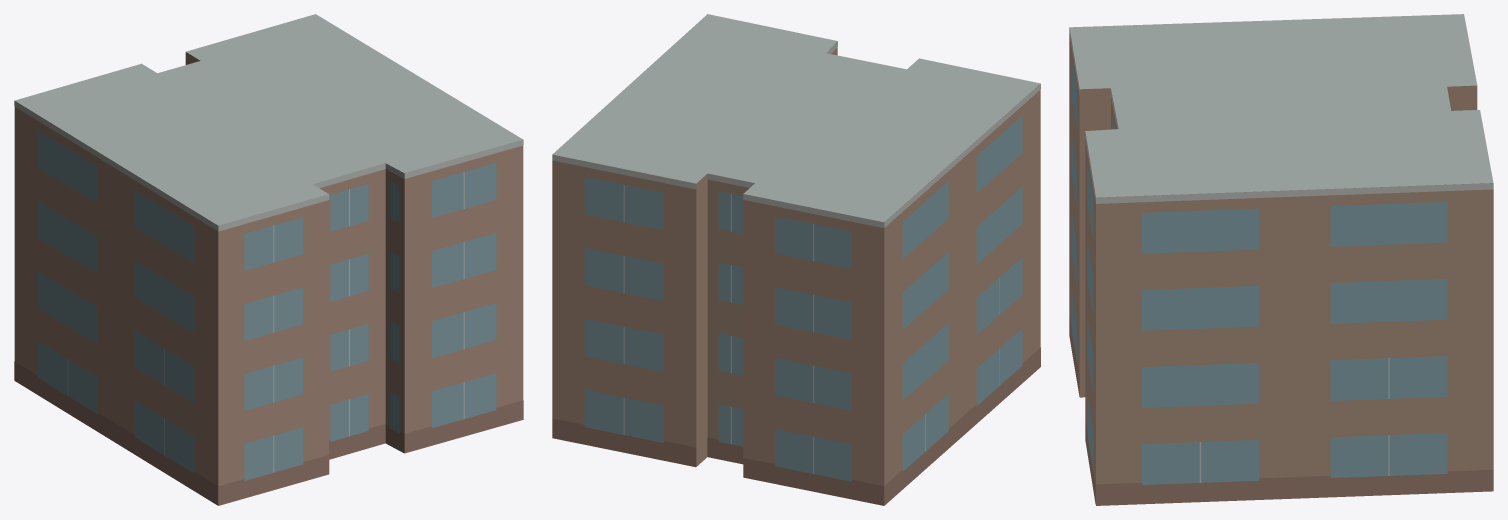
The model's file is survey-upis-32729198.glb.
3 renders of one model, left to right at view 1: azimuth 30°, elevation 25°; view 2: azimuth 150°, elevation 25°; view 3: azimuth 270°, elevation 25°, orthographic. The views are drawn at different scales.
Visible parts, largest first — view 1: survey-upis-32729198.tmp; view 2: survey-upis-32729198.tmp; view 3: survey-upis-32729198.tmp.
Part boxes in pixels (box(x1,y1,x2,y2)): survey-upis-32729198.tmp: box(14, 14, 523, 505); survey-upis-32729198.tmp: box(552, 14, 1040, 505); survey-upis-32729198.tmp: box(1069, 14, 1493, 505).
Size of the model in its own units: 14.95 by 11.7 by 14.59.
